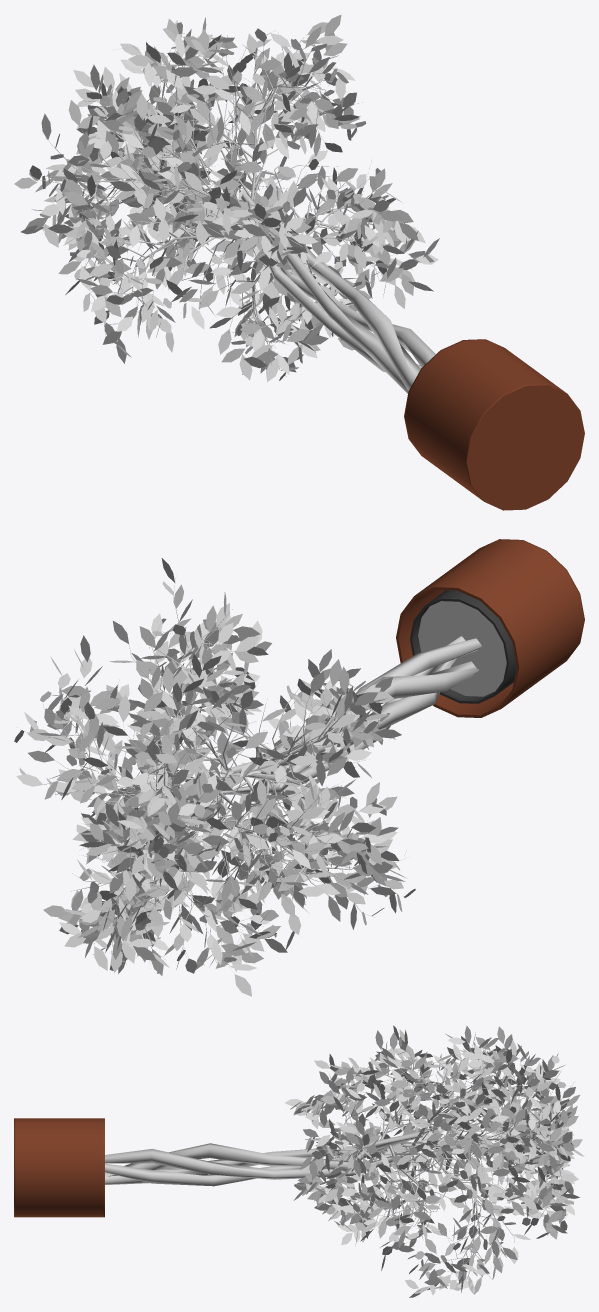
The model's file is ficus-v2.dae.
3 views of the same model, one above another, from view 1: azimuth 30°, elevation 25°; view 2: azimuth 150°, elevation 25°; view 3: azimuth 270°, elevation 25° (orthographic). The views are drawn at different scales.
Visible parts, largest first — view 1: leaves, Cylinder_001, tree; view 2: leaves, tree, Cylinder_001, Cylinder_002, Cylinder; view 3: leaves, tree, Cylinder_001.
Boxes of the visible parts, left/top/right/bottom form: leaves: left=14, top=15, right=439, bottom=381; Cylinder_001: left=404, top=339, right=584, bottom=510; tree: left=35, top=30, right=435, bottom=393; leaves: left=14, top=558, right=415, bottom=996; tree: left=20, top=578, right=481, bottom=964; Cylinder_001: left=396, top=539, right=584, bottom=717; Cylinder_002: left=418, top=601, right=506, bottom=696; Cylinder: left=410, top=590, right=516, bottom=703; leaves: left=285, top=1025, right=584, bottom=1297; tree: left=105, top=1037, right=566, bottom=1284; Cylinder_001: left=14, top=1118, right=104, bottom=1217.
Bounding box in the file's own units: 4.25 × 8.24 × 4.15.
